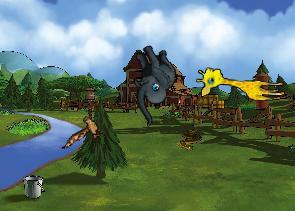eagle: (61, 103, 109, 158)
elephant: (110, 38, 194, 127)
giraffe: (195, 66, 286, 101)
